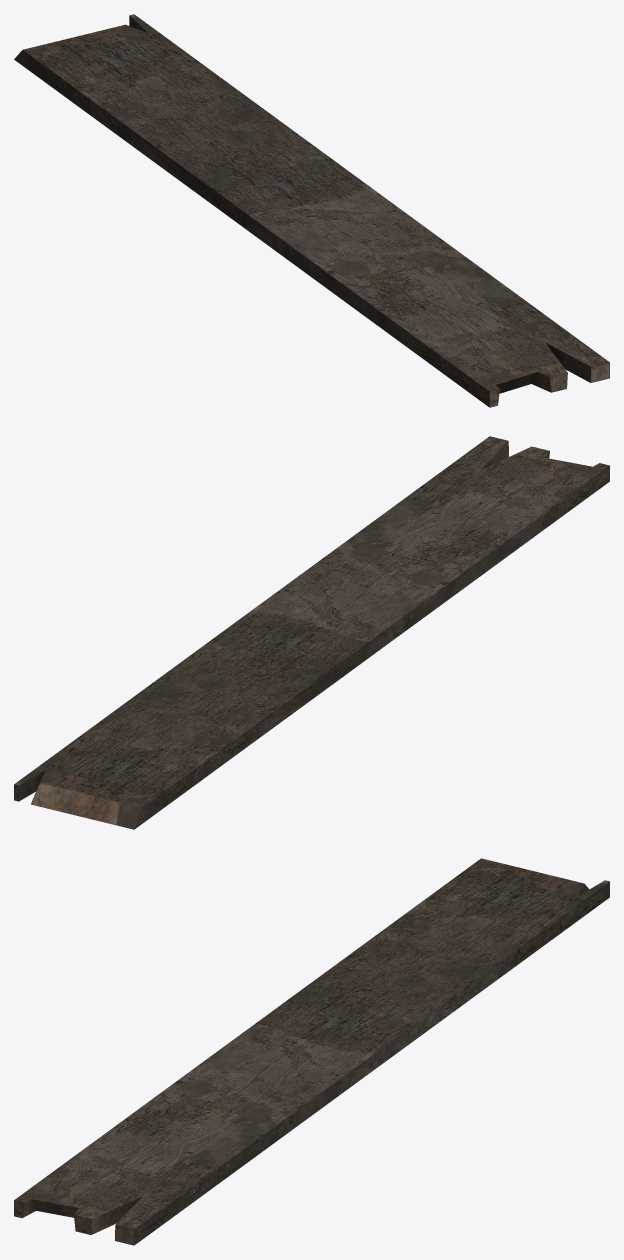
Rendered from SM_WoodBoard_04.glb.
3 renders of one model, top to bottom at view 1: azimuth 30°, elevation 25°; view 2: azimuth 150°, elevation 25°; view 3: azimuth 330°, elevation 25°, orthographic.
Parts seen in each view (by area): view 1: SM_WoodBoard_04; view 2: SM_WoodBoard_04; view 3: SM_WoodBoard_04.
Part boxes in pixels (x1,y1,x2,y2): SM_WoodBoard_04: (14, 14, 609, 407); SM_WoodBoard_04: (14, 436, 609, 829); SM_WoodBoard_04: (14, 858, 609, 1245).
Bounding box in the file's own units: 0.2241 × 0.0285 × 1.54.
1 material, 1 textured.
